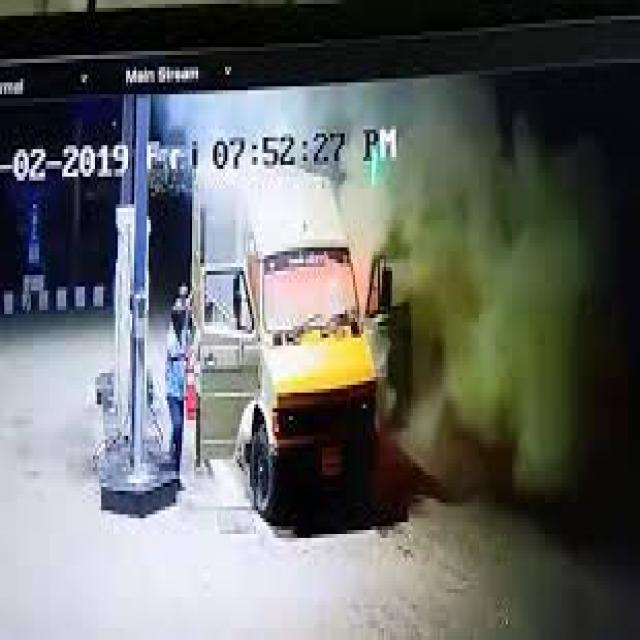smoke: (262, 87, 640, 510)
